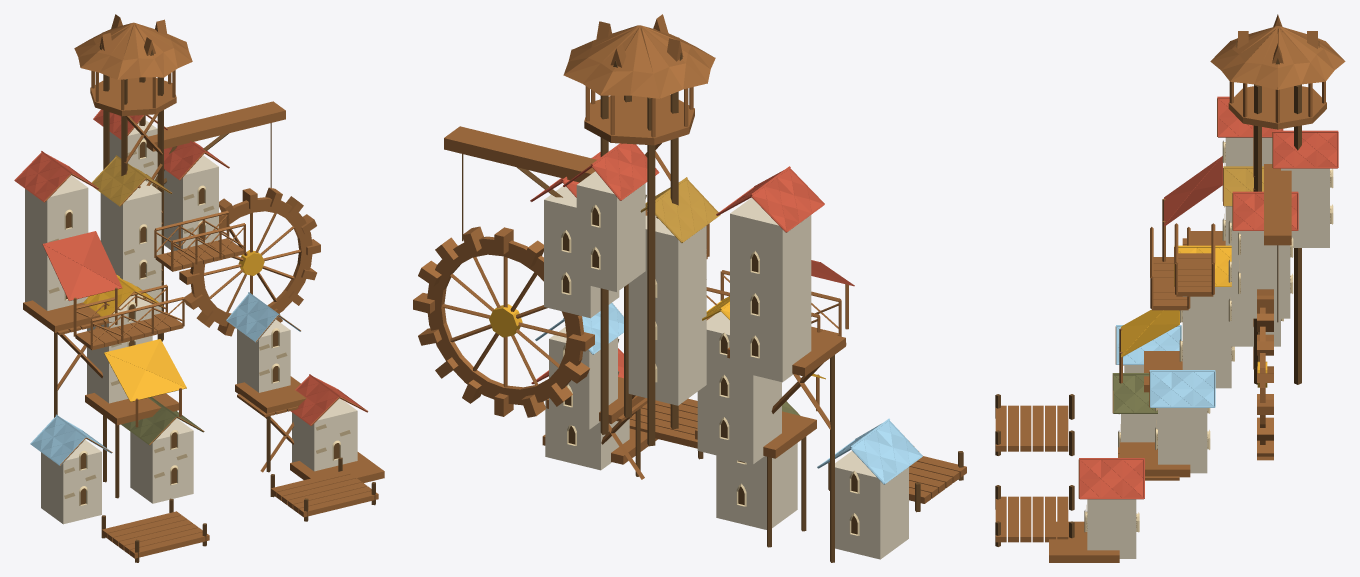
File: building.glb
3 views of the same model, side by side, from view 1: azimuth 30°, elevation 25°; view 2: azimuth 150°, elevation 25°; view 3: azimuth 270°, elevation 25° (orthographic). The views are drawn at different scales.
Visible parts, largest first — view 1: 25_Klugetown_WatchtowerBridgesCraneAndCogwheel, 25_Klugetown_IrregularSandstoneRooms, 25_R2C_Kluge_BackWindowsRoofVentsAndBracedPlatforms; view 2: 25_Klugetown_IrregularSandstoneRooms, 25_Klugetown_WatchtowerBridgesCraneAndCogwheel, 25_R2C_Kluge_BackWindowsRoofVentsAndBracedPlatforms; view 3: 25_Klugetown_IrregularSandstoneRooms, 25_Klugetown_WatchtowerBridgesCraneAndCogwheel, 25_R2C_Kluge_BackWindowsRoofVentsAndBracedPlatforms.
Part boxes in pixels (<box>): 25_Klugetown_WatchtowerBridgesCraneAndCogwheel: <box>23,22,384,562</box>; 25_Klugetown_IrregularSandstoneRooms: <box>14,109,367,524</box>; 25_R2C_Kluge_BackWindowsRoofVentsAndBracedPlatforms: <box>44,14,368,498</box>; 25_Klugetown_IrregularSandstoneRooms: <box>530,143,922,559</box>; 25_Klugetown_WatchtowerBridgesCraneAndCogwheel: <box>413,25,966,562</box>; 25_R2C_Kluge_BackWindowsRoofVentsAndBracedPlatforms: <box>561,14,918,535</box>; 25_Klugetown_IrregularSandstoneRooms: <box>1079,96,1338,558</box>; 25_Klugetown_WatchtowerBridgesCraneAndCogwheel: <box>995,26,1345,562</box>; 25_R2C_Kluge_BackWindowsRoofVentsAndBracedPlatforms: <box>1078,14,1333,532</box>.
Size of the model in its own units: 1.35 by 1.64 by 1.14.
